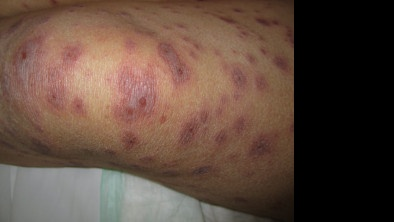SJS-TEN: (0, 0, 297, 221)
